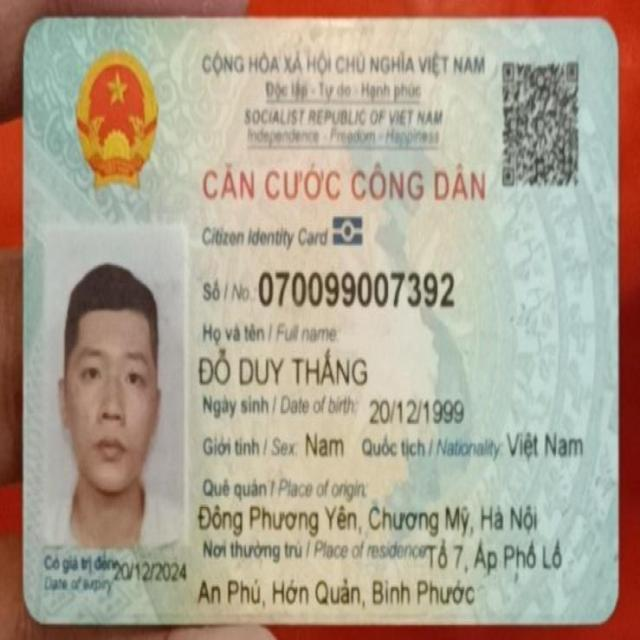current_place: (195, 572, 482, 618), (423, 536, 566, 575)
dob: (366, 400, 470, 425)
expire_date: (113, 560, 190, 586)
gender: (304, 426, 347, 468)
id: (257, 265, 455, 311)
name: (195, 340, 371, 394)
nationality: (502, 426, 588, 463)
origin_place: (194, 500, 539, 538)
qr: (500, 54, 582, 188)
